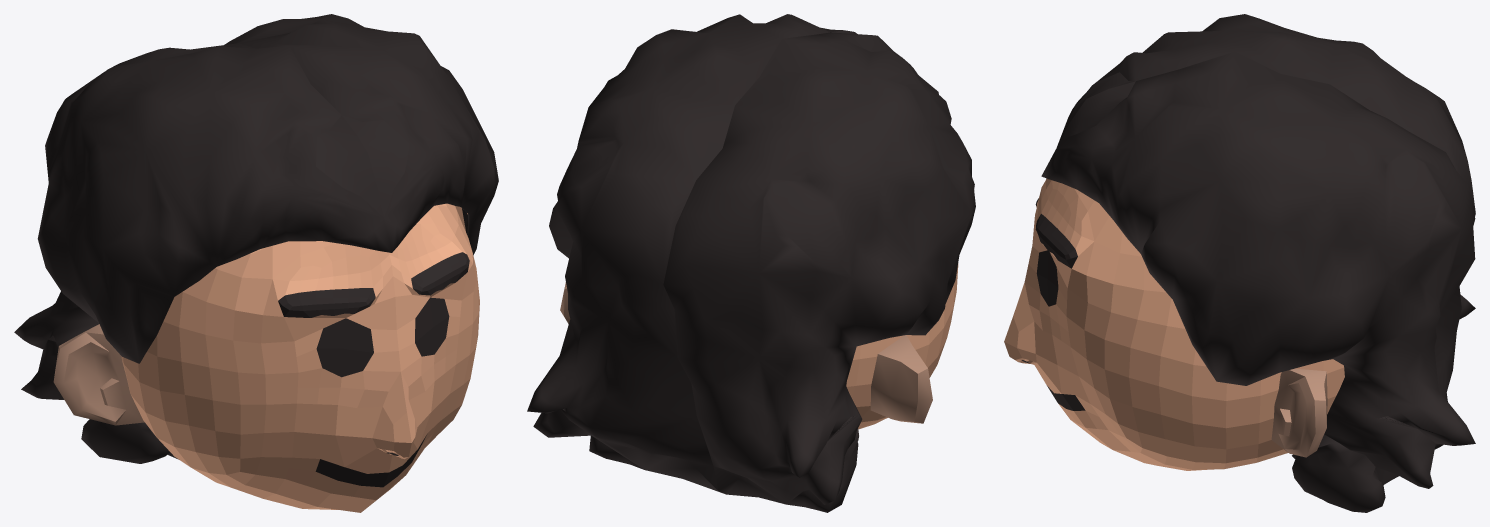
File: liam-jr.glb
The picture shows the model from 3 angles, left to right: view 1: azimuth 30°, elevation 25°; view 2: azimuth 150°, elevation 25°; view 3: azimuth 270°, elevation 25°; orthographic projection. The views are drawn at different scales.
Parts seen in each view (by area): view 1: hair; view 2: hair; view 3: hair.
Boxes of the visible parts, x1,y1,x2,y2 form: hair: (14, 14, 498, 512); hair: (527, 14, 975, 512); hair: (1004, 14, 1475, 512).
Bounding box in the file's own units: 0.9752 × 1.05 × 1.07.
